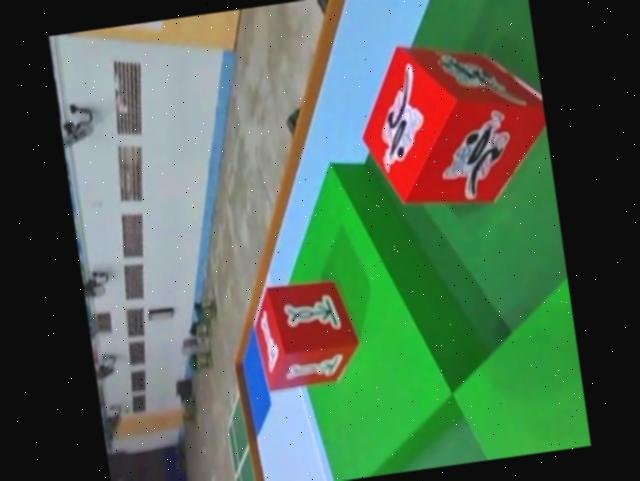R1: (349, 24, 556, 219)
R2 Real: (249, 272, 366, 390)
